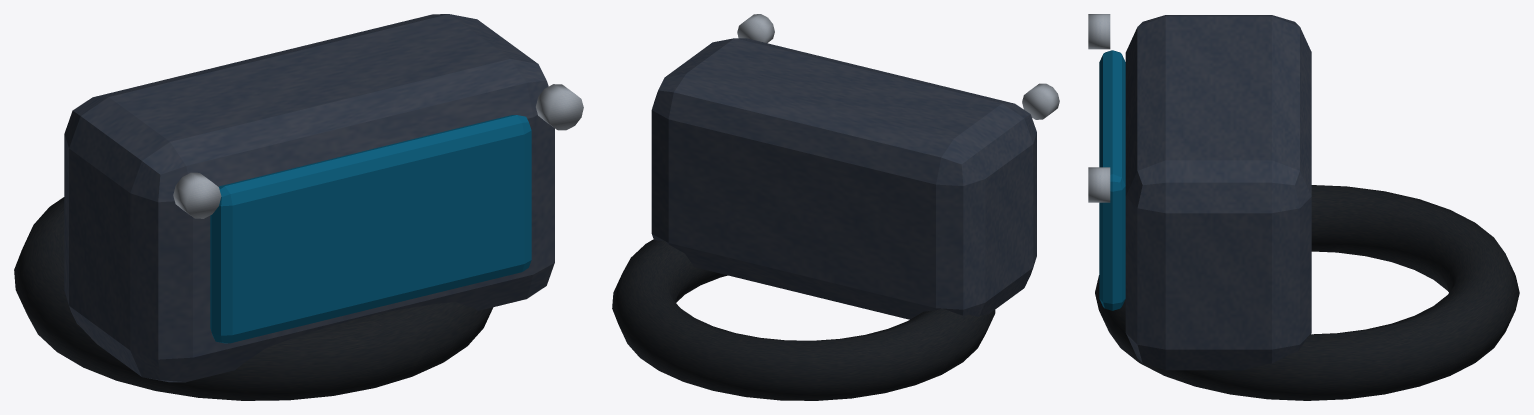
Rendered from WristHUD.obj.
The picture shows the model from 3 angles, left to right: view 1: azimuth 30°, elevation 25°; view 2: azimuth 150°, elevation 25°; view 3: azimuth 270°, elevation 25°; orthographic projection. The views are drawn at different scales.
Parts seen in each view (by area): view 1: HUD_Housing, HUD_Glass, Wrist_Strap, Fastener.001, Fastener; view 2: HUD_Housing, Wrist_Strap, Fastener, Fastener.001; view 3: HUD_Housing, Wrist_Strap, HUD_Glass, Fastener.001, Fastener.
Part boxes in pixels (bbox=[...]): HUD_Housing: bbox=[64, 14, 554, 382]; HUD_Glass: bbox=[210, 115, 531, 343]; Wrist_Strap: bbox=[14, 197, 493, 400]; Fastener.001: bbox=[536, 84, 583, 130]; Fastener: bbox=[173, 172, 221, 218]; HUD_Housing: bbox=[651, 38, 1036, 319]; Wrist_Strap: bbox=[612, 239, 995, 400]; Fastener: bbox=[1022, 83, 1059, 119]; Fastener.001: bbox=[737, 14, 774, 43]; HUD_Housing: bbox=[1125, 15, 1311, 370]; Wrist_Strap: bbox=[1095, 185, 1519, 400]; HUD_Glass: bbox=[1099, 50, 1125, 310]; Fastener.001: bbox=[1088, 167, 1110, 202]; Fastener: bbox=[1088, 14, 1110, 49].
Bounding box in the file's own units: 0.096 × 0.059 × 0.0975.
